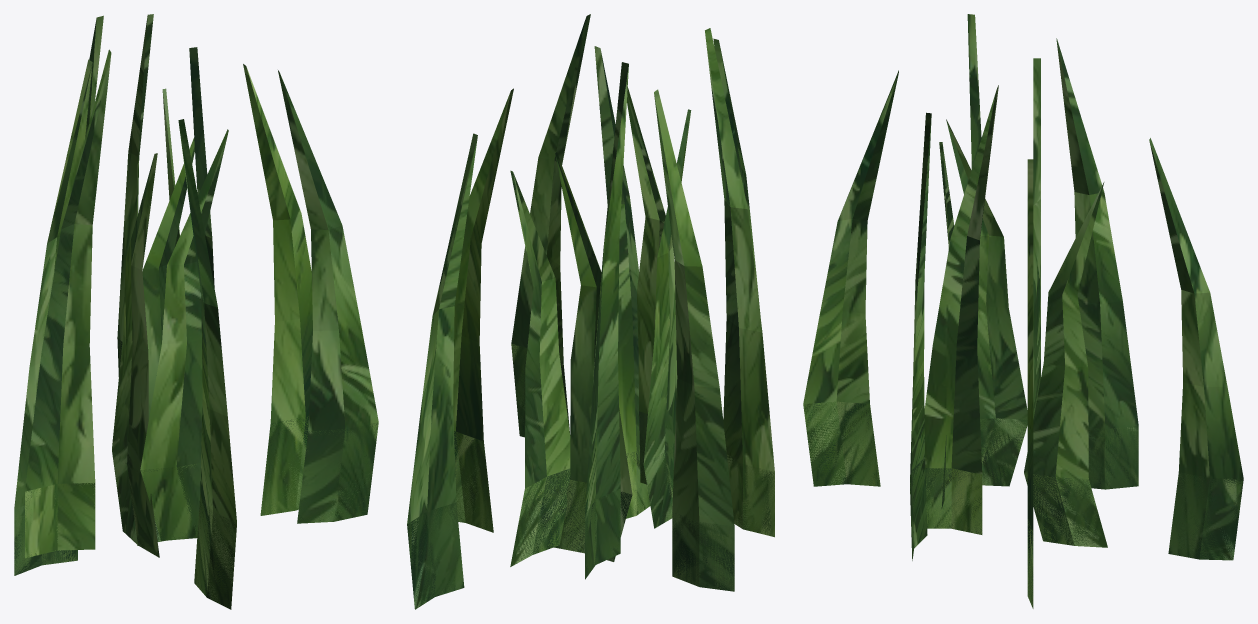
File: grass03.fbx
3 views of the same model, side by side, from view 1: azimuth 30°, elevation 25°; view 2: azimuth 150°, elevation 25°; view 3: azimuth 270°, elevation 25° (orthographic). The views are drawn at different scales.
Parts seen in each view (by area): view 1: Cube; view 2: Cube; view 3: Cube.
Part boxes in pixels (x1,y1,x2,y2): Cube: [14, 14, 378, 609]; Cube: [407, 14, 774, 609]; Cube: [803, 14, 1243, 608].
Bounding box in the file's own units: 210 × 321 × 264.
